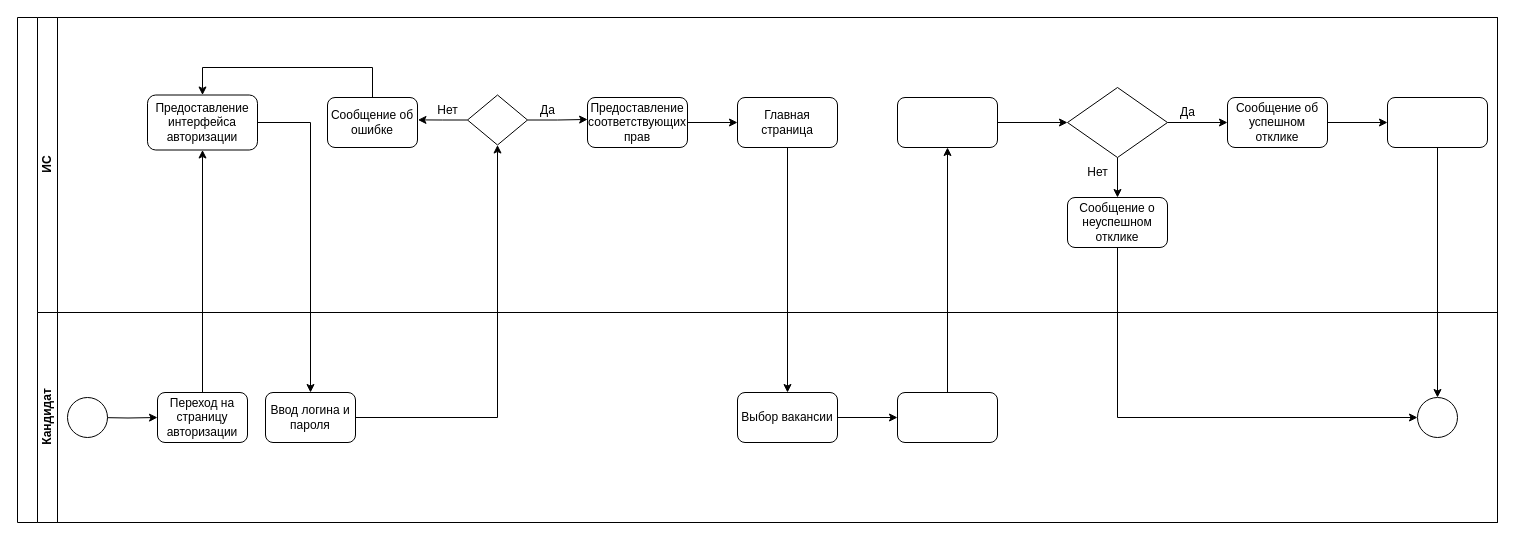
Image size: 1515x540. Some labels were removed from this diagram. Each missing label, with the box of its shape:
Верны?: (466, 94, 528, 145)
Назначение тестов: (1386, 96, 1488, 148)
Отклик: (896, 392, 998, 442)
Подходит по критериям?: (1066, 86, 1168, 158)
Проверка совпадаемых навыков: (896, 96, 998, 148)
